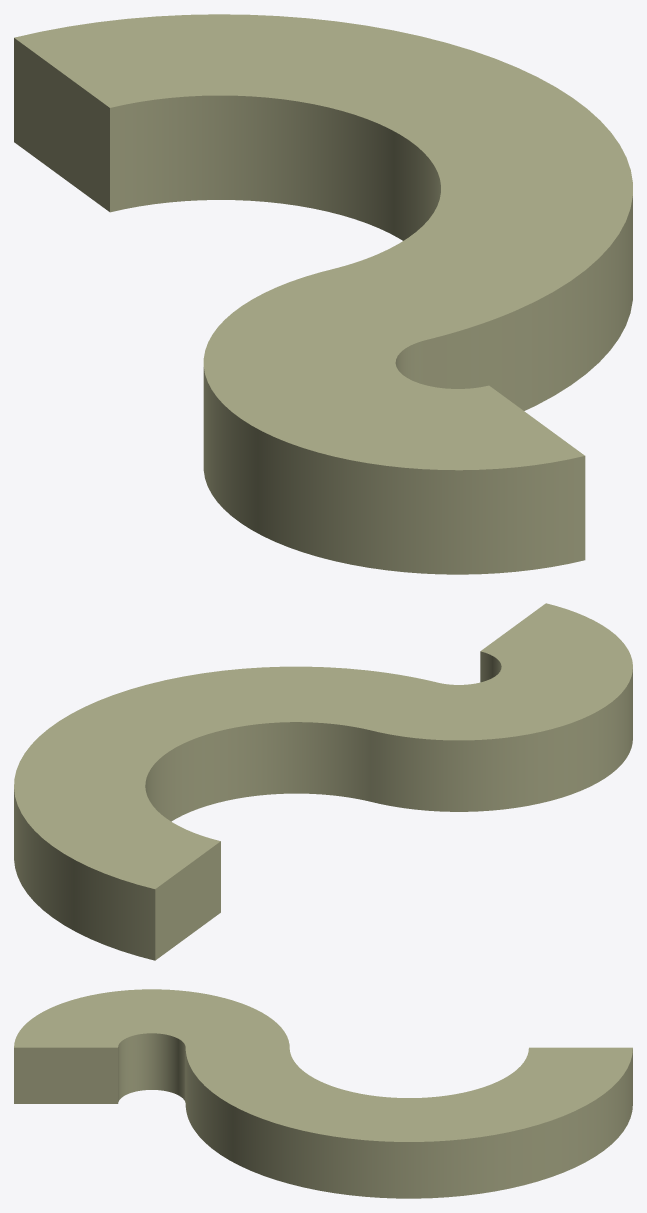
The model's file is model_04_hover.glb.
3 renders of one model, top to bottom at view 1: azimuth 30°, elevation 25°; view 2: azimuth 150°, elevation 25°; view 3: azimuth 270°, elevation 25°, orthographic. The views are drawn at different scales.
Bounding box in the file's own units: 106 × 18.29 × 181.
